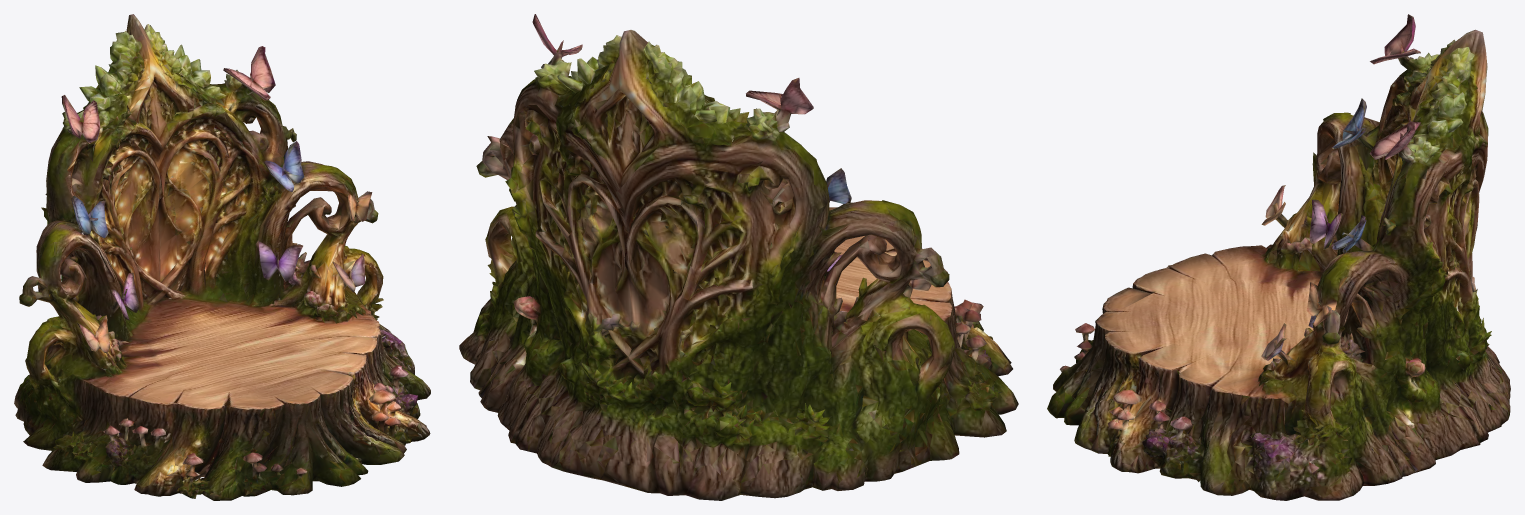
File: Enchanted_Forest_Thro.glb
3 renders of one model, left to right at view 1: azimuth 30°, elevation 25°; view 2: azimuth 150°, elevation 25°; view 3: azimuth 270°, elevation 25°, orthographic. The views are drawn at different scales.
Visible parts, largest first — view 1: Enchanted_Forest_Thro; view 2: Enchanted_Forest_Thro; view 3: Enchanted_Forest_Thro.
Boxes of the visible parts, box(x1,y1,x2,y2) form: Enchanted_Forest_Thro: box(14, 14, 430, 500); Enchanted_Forest_Thro: box(459, 14, 1018, 500); Enchanted_Forest_Thro: box(1047, 14, 1510, 500).
Size of the model in its own units: 1.91 by 1.61 by 1.84.
Materials: 1 (1 with a texture image).
